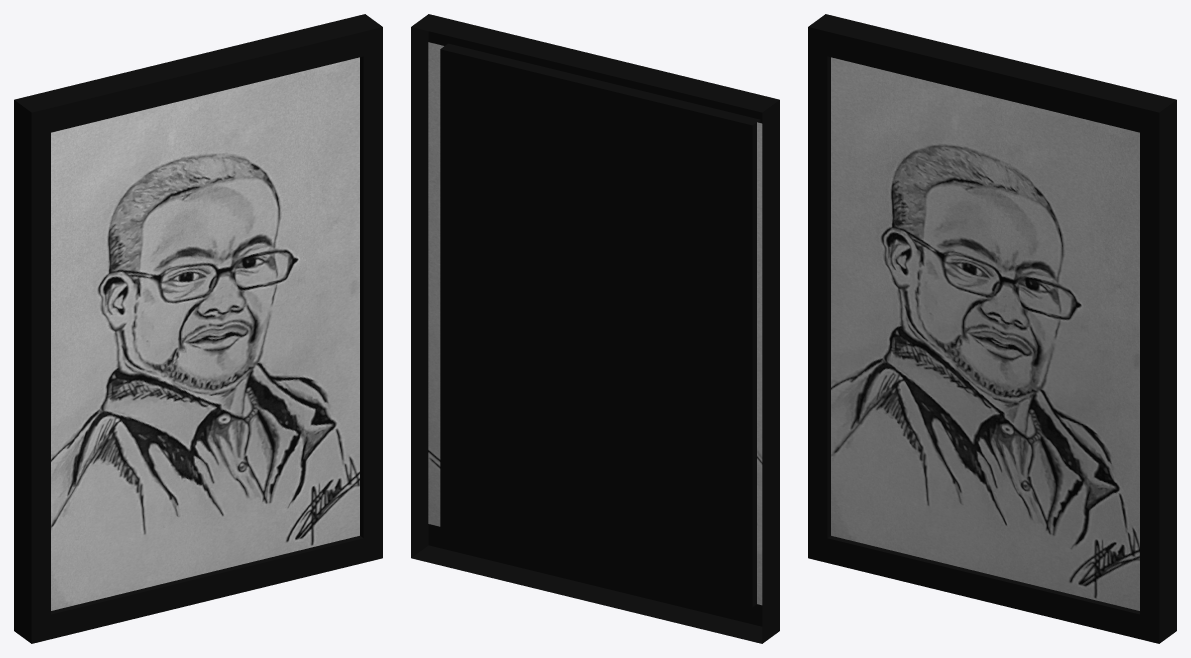
The model's file is Dad Picture 01.fbx.
3 renders of one model, left to right at view 1: azimuth 30°, elevation 25°; view 2: azimuth 150°, elevation 25°; view 3: azimuth 330°, elevation 25°, orthographic.
Visible parts, largest first — view 1: Dad Picture 01.001; view 2: Dad Picture 01.001; view 3: Dad Picture 01.001.
Boxes of the visible parts, <box> form: Dad Picture 01.001: <box>14,14,382,643</box>; Dad Picture 01.001: <box>411,14,779,643</box>; Dad Picture 01.001: <box>808,14,1176,643</box>.
Size of the model in its own units: 1.19 by 1.72 by 0.1039.
